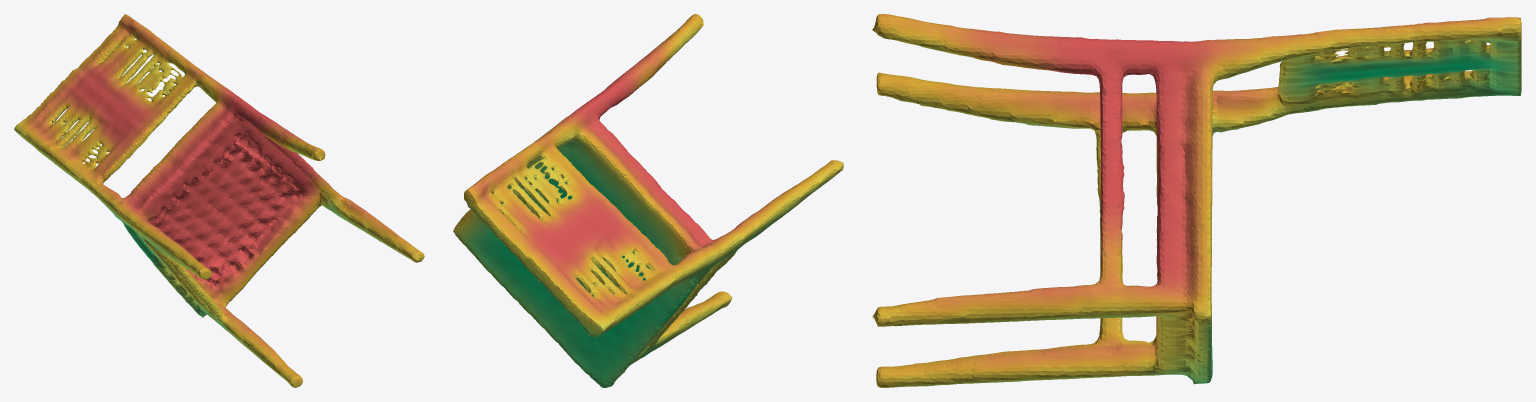
Rendered from demo1con.glb.
The picture shows the model from 3 angles, left to right: view 1: azimuth 30°, elevation 25°; view 2: azimuth 150°, elevation 25°; view 3: azimuth 270°, elevation 25°; orthographic projection. The views are drawn at different scales.
Visible parts, largest first — view 1: Screenshot_2026-10-07_192722.obj; view 2: Screenshot_2026-10-07_192722.obj; view 3: Screenshot_2026-10-07_192722.obj.
Boxes of the visible parts, x1,y1,x2,y2 form: Screenshot_2026-10-07_192722.obj: [14, 14, 424, 387]; Screenshot_2026-10-07_192722.obj: [453, 14, 843, 387]; Screenshot_2026-10-07_192722.obj: [872, 14, 1521, 387].
Size of the model in its own units: 1.34 by 1.32 by 1.99.
